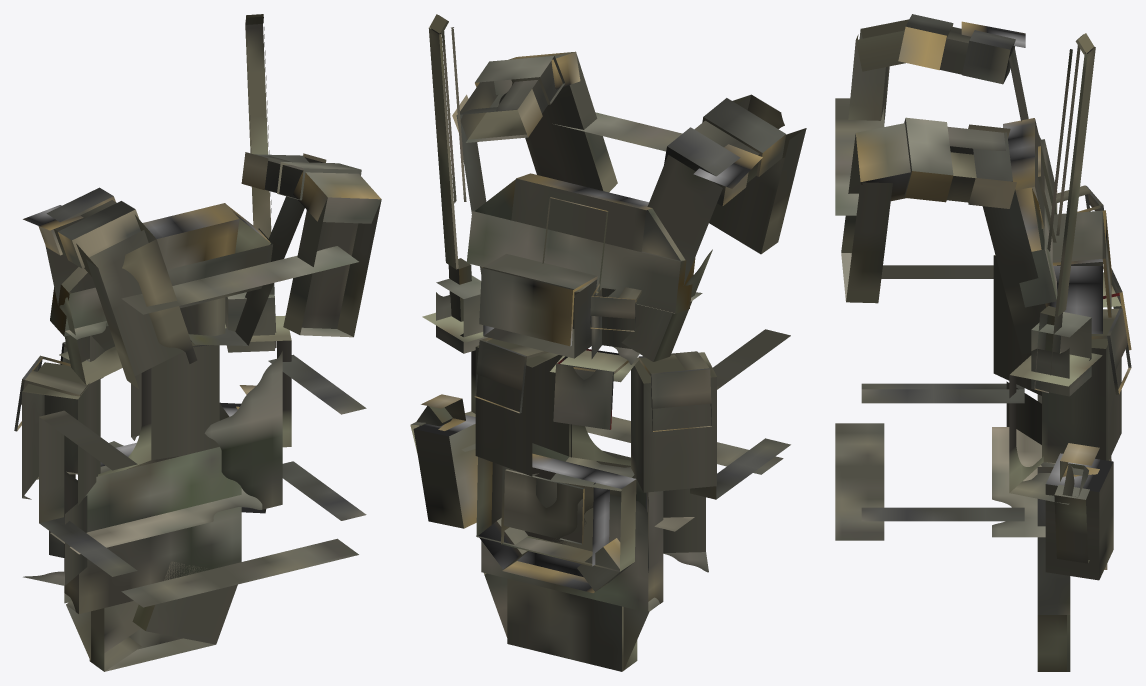
File: marine.obj
The picture shows the model from 3 angles, left to right: view 1: azimuth 30°, elevation 25°; view 2: azimuth 150°, elevation 25°; view 3: azimuth 270°, elevation 25°; orthographic projection. The views are drawn at different scales.
Visible parts, largest first — view 1: marine; view 2: marine; view 3: marine.
Boxes of the visible parts, x1=… form: marine: x1=14, y1=14, x2=381, y2=671; marine: x1=410, y1=14, x2=806, y2=671; marine: x1=835, y1=14, x2=1131, y2=671.
Bounding box in the file's own units: 0.7121 × 1.41 × 0.5675.
